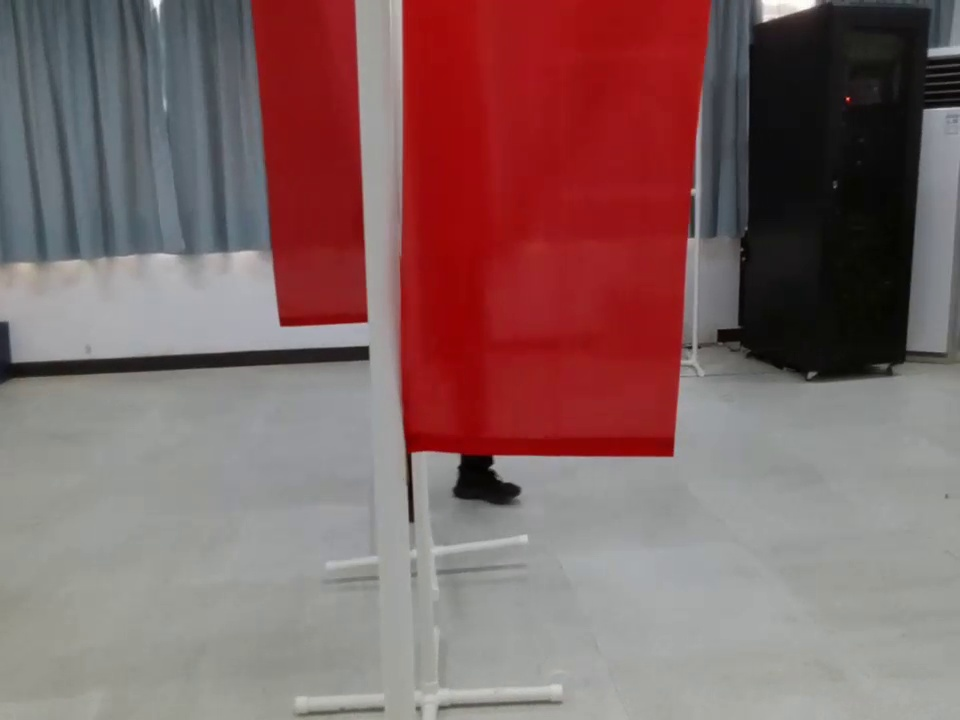qi: (353, 1, 678, 481), (244, 3, 393, 330)
